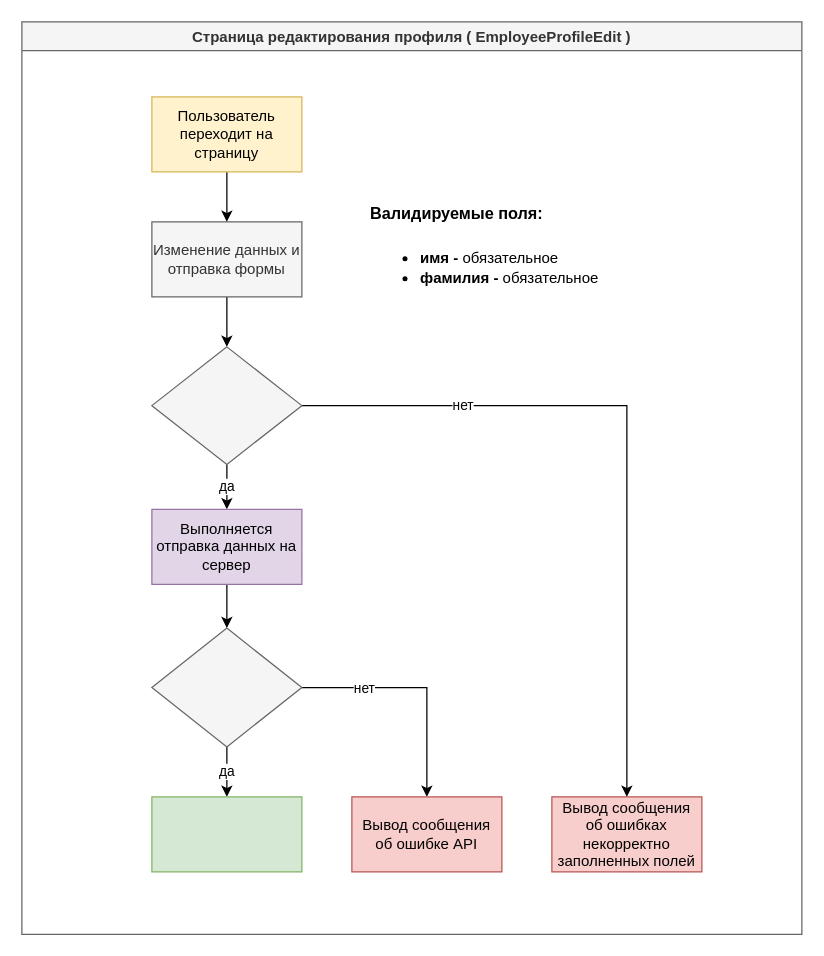
Image size: 824x956. Some labels were removed from this diagram. The centre of each missing label's shape, as x and y in pixels:
"Вывод сообщения об успешном обновлении данных" belongs at (x=226, y=834).
"Данные валидны?" belongs at (x=226, y=405).
"Данные пользователя обновлены?" belongs at (x=226, y=687).
